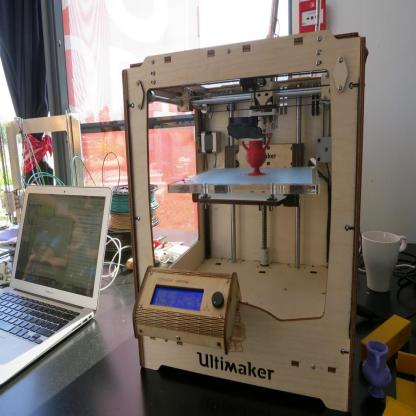board: (0, 182, 113, 391)
